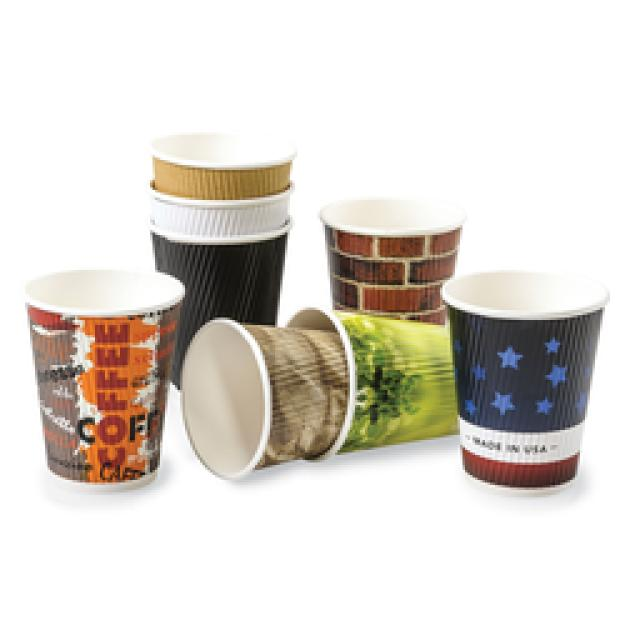paper_cups: (182, 311, 450, 478), (17, 257, 184, 498), (141, 129, 294, 384), (446, 268, 606, 492)
